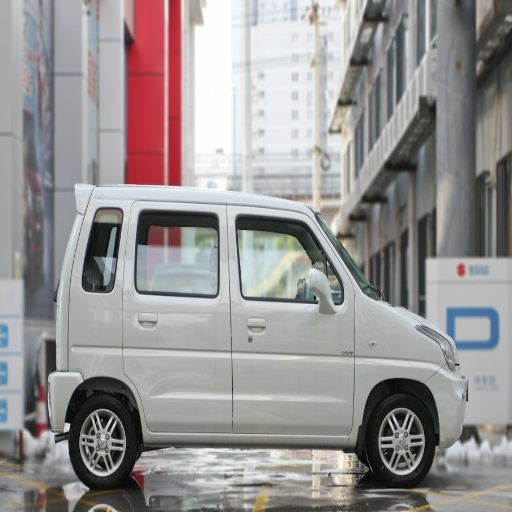front_right_door: (228, 205, 353, 433)
